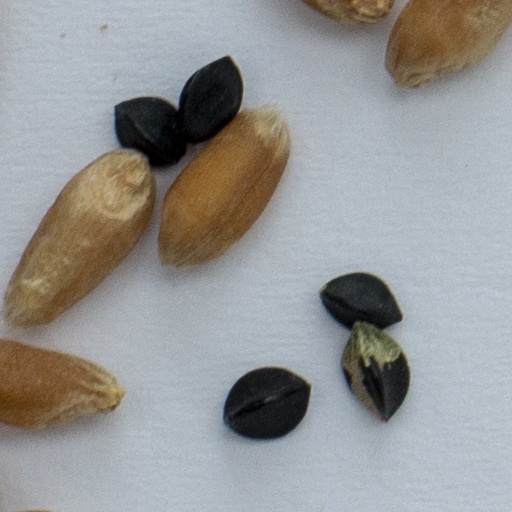Fallopia-Сonvolvulus-poly: (344, 323, 408, 420), (225, 366, 309, 437), (177, 57, 242, 141), (115, 98, 186, 160), (323, 273, 401, 328)
